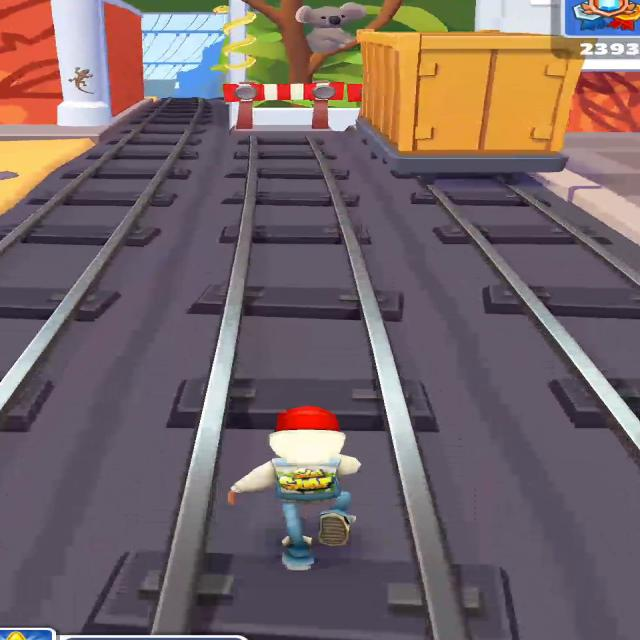block pillar: (225, 0, 367, 131)
train: (317, 19, 587, 177)
